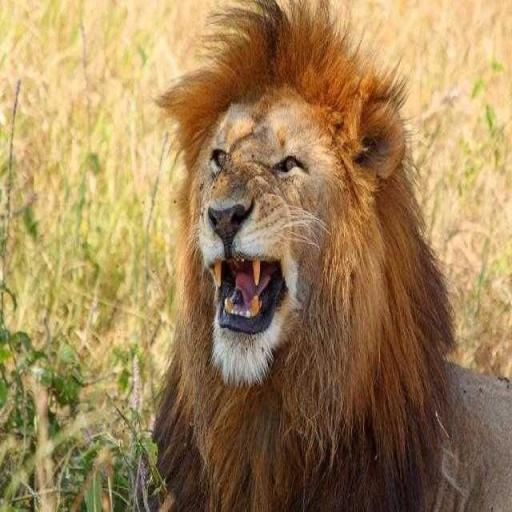Lion: (133, 0, 510, 510)
